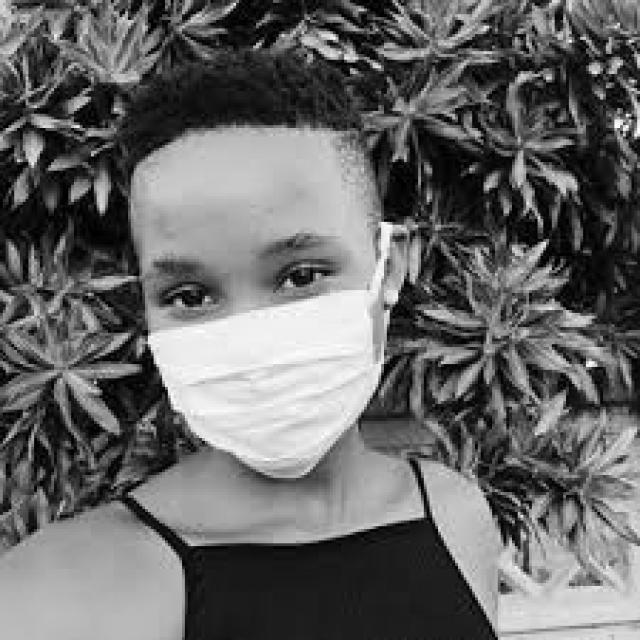with_mask: (142, 219, 396, 481)
